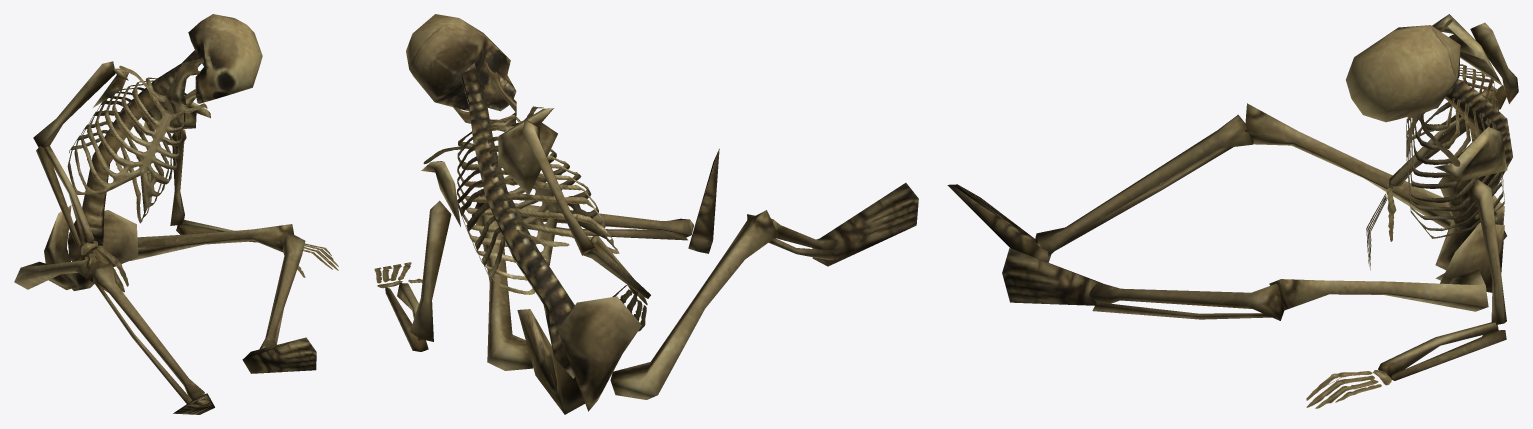
The model's file is fxdx_kulou_02.FBX.
3 renders of one model, left to right at view 1: azimuth 30°, elevation 25°; view 2: azimuth 150°, elevation 25°; view 3: azimuth 270°, elevation 25°, orthographic. The views are drawn at different scales.
Parts seen in each view (by area): view 1: fxdx_kulou_02; view 2: fxdx_kulou_02; view 3: fxdx_kulou_02.
Boxes of the visible parts, box(x1,y1,x2,y2) form: fxdx_kulou_02: box(14, 14, 338, 414); fxdx_kulou_02: box(374, 14, 918, 414); fxdx_kulou_02: box(947, 14, 1518, 408).
Bounding box in the file's own units: 89.51 × 112 × 75.2.
